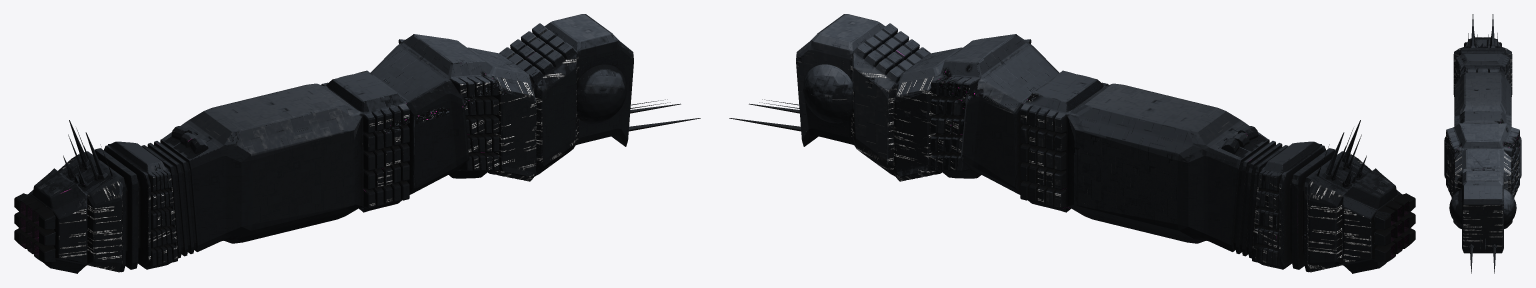
The model's file is catdog15_ship.gltf.
3 views of the same model, side by side, from view 1: azimuth 30°, elevation 25°; view 2: azimuth 150°, elevation 25°; view 3: azimuth 270°, elevation 25° (orthographic). The views are drawn at different scales.
Visible parts, largest first — view 1: Spaceship; view 2: Spaceship; view 3: Spaceship.
Part boxes in pixels (x1,y1,x2,y2): Spaceship: (14,14,700,273); Spaceship: (729,14,1415,273); Spaceship: (1444,14,1521,273).
Bounding box in the file's own units: 8.69 × 1.88 × 1.47.
Materials: 1 (1 with a texture image).
